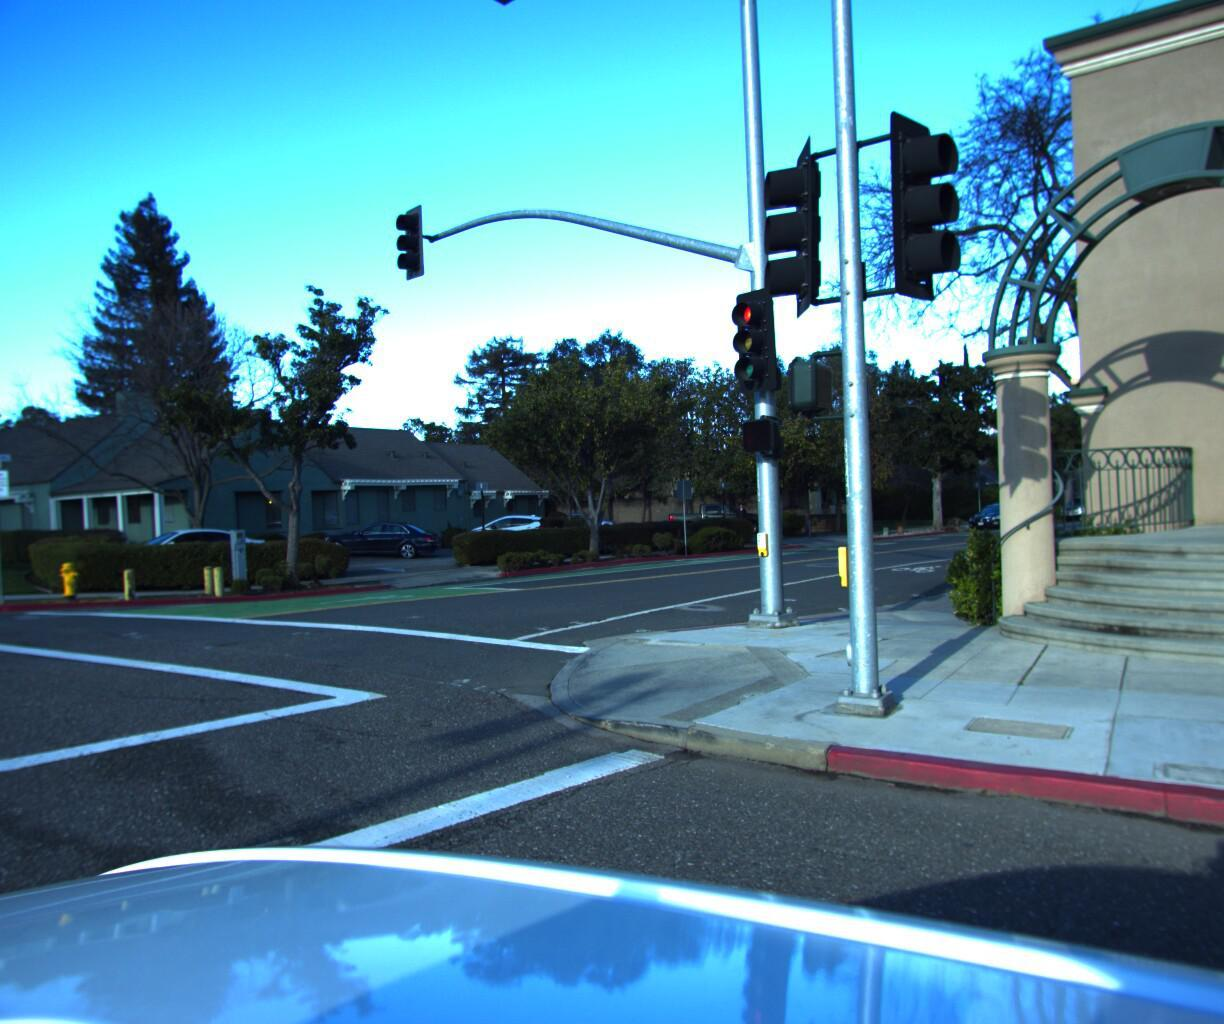car: (94, 518, 281, 587), (315, 511, 448, 559), (665, 493, 767, 534), (461, 506, 553, 547), (961, 494, 1029, 524)
